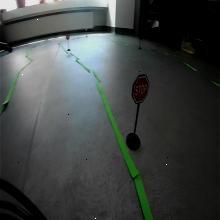stop: (131, 75, 150, 103)
